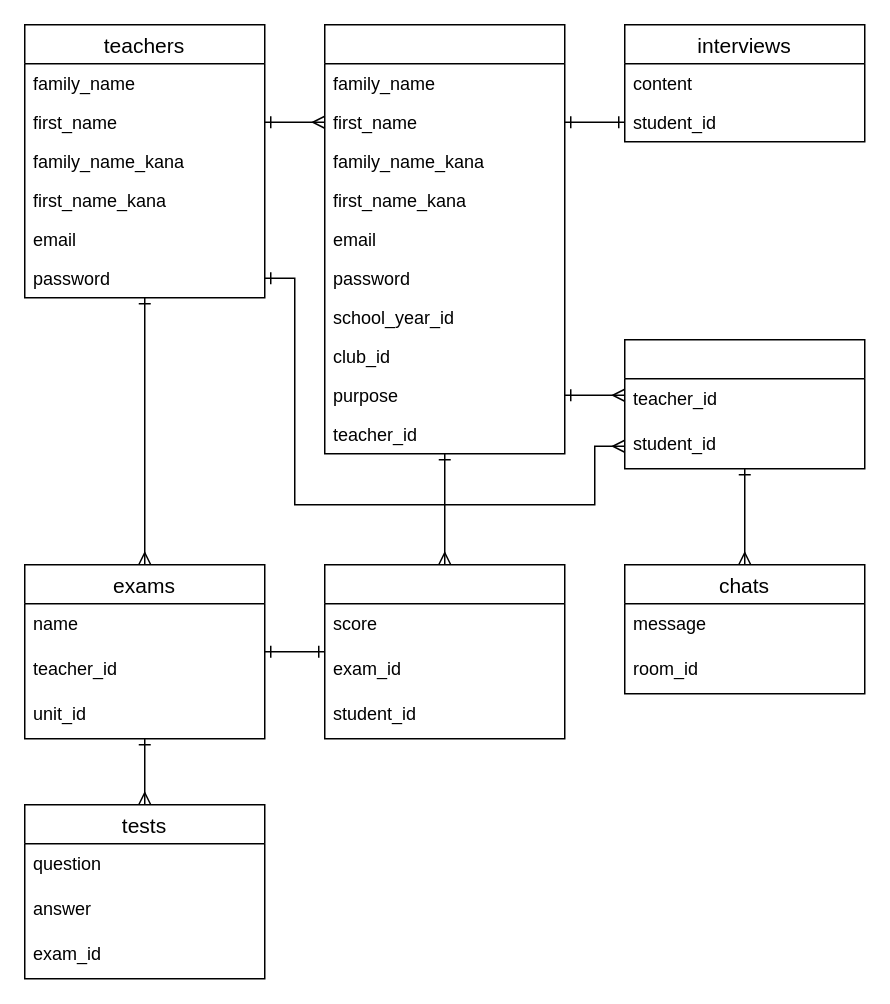
Some shapes in this 890 by 1004 pixel diagram are drawn without their labels. The box of each missing label's shape, as (x1, y1, x2, y2) in pixels:
records: (323, 563, 565, 739)
rooms: (623, 338, 865, 469)
students: (323, 23, 565, 454)
